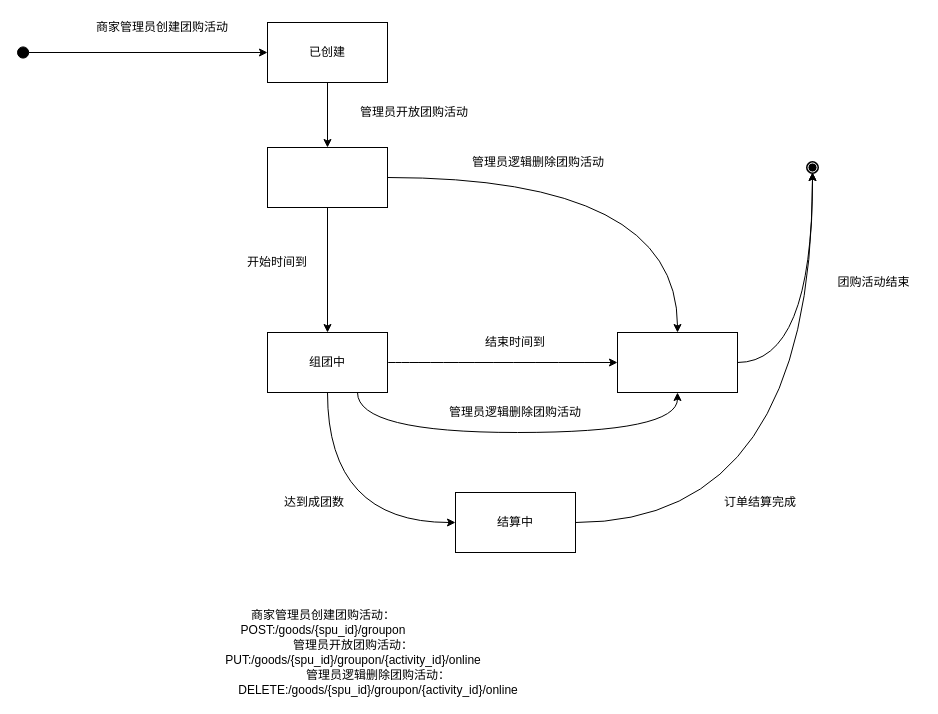
The diagram is 938 pixels wide and 714 high, and some of its shapes have lost their labels. Each missing label, with the centre of its shape:
"已关闭" belongs at [677,362].
"未开始" belongs at [327,177].
